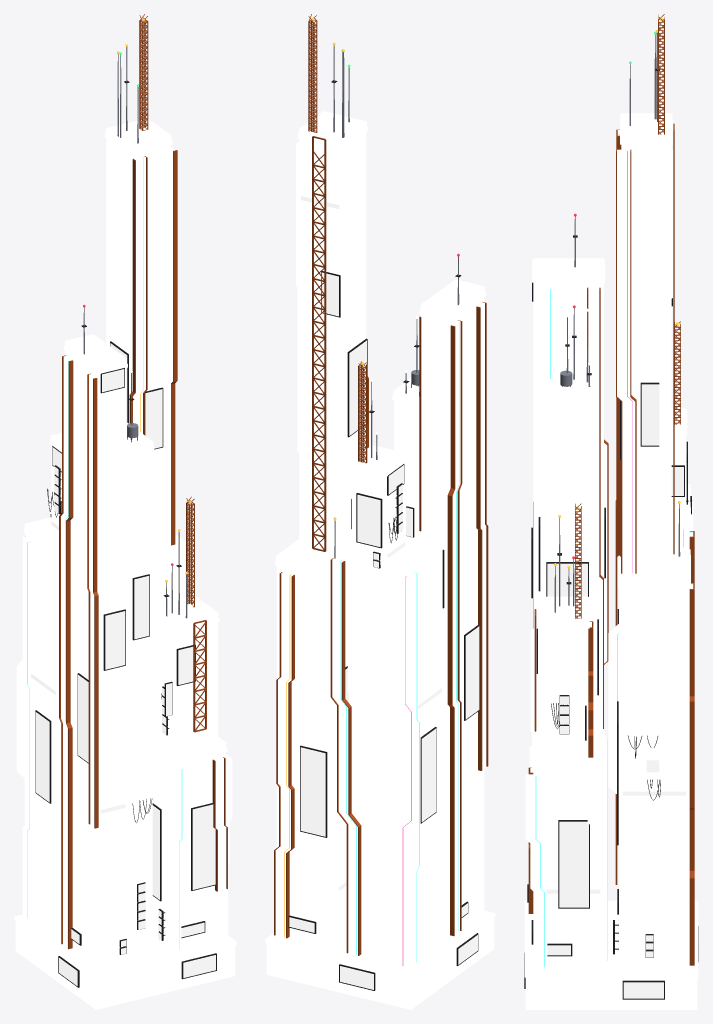
The model's file is k_block_d.glb.
3 renders of one model, left to right at view 1: azimuth 30°, elevation 25°; view 2: azimuth 150°, elevation 25°; view 3: azimuth 270°, elevation 25°, orthographic. The views are drawn at different scales.
Visible parts, largest first — view 1: kit_dark, kit_grey, steel_orange, screen_atlas, kit_mid, metal_dark, metal_light, neon_cyan; view 2: kit_dark, kit_grey, kit_mid, steel_orange, screen_atlas, metal_dark, neon_cyan, metal_light, neon_magenta; view 3: kit_dark, kit_grey, kit_mid, steel_orange, screen_atlas, metal_dark, metal_light, neon_cyan, neon_magenta.
Part boxes in pixels (x1=…): kit_dark: x1=25, y1=138, x2=225, y2=971; kit_grey: x1=14, y1=119, x2=236, y2=979; steel_orange: x1=59, y1=14, x2=227, y2=949; screen_atlas: x1=31, y1=343, x2=215, y2=986; kit_mid: x1=15, y1=126, x2=235, y2=1009; metal_dark: x1=35, y1=80, x2=216, y2=987; metal_light: x1=83, y1=47, x2=187, y2=618; neon_cyan: x1=27, y1=360, x2=182, y2=948; kit_dark: x1=299, y1=132, x2=484, y2=969; kit_grey: x1=265, y1=111, x2=495, y2=978; kit_mid: x1=266, y1=121, x2=494, y2=1009; steel_orange: x1=274, y1=14, x2=488, y2=955; screen_atlas: x1=289, y1=196, x2=479, y2=989; metal_dark: x1=288, y1=80, x2=478, y2=990; neon_cyan: x1=340, y1=322, x2=459, y2=962; metal_light: x1=333, y1=45, x2=459, y2=558; neon_magenta: x1=402, y1=576, x2=411, y2=965; kit_dark: x1=533, y1=144, x2=689, y2=970; kit_grey: x1=524, y1=113, x2=698, y2=977; kit_mid: x1=525, y1=114, x2=697, y2=1009; steel_orange: x1=528, y1=14, x2=694, y2=965; screen_atlas: x1=546, y1=384, x2=685, y2=998; metal_dark: x1=524, y1=68, x2=698, y2=999; metal_light: x1=554, y1=32, x2=680, y2=612; neon_cyan: x1=535, y1=289, x2=692, y2=967; neon_magenta: x1=627, y1=151, x2=692, y2=572.
Bounding box in the file's own units: 35.19 × 214 × 34.6.
